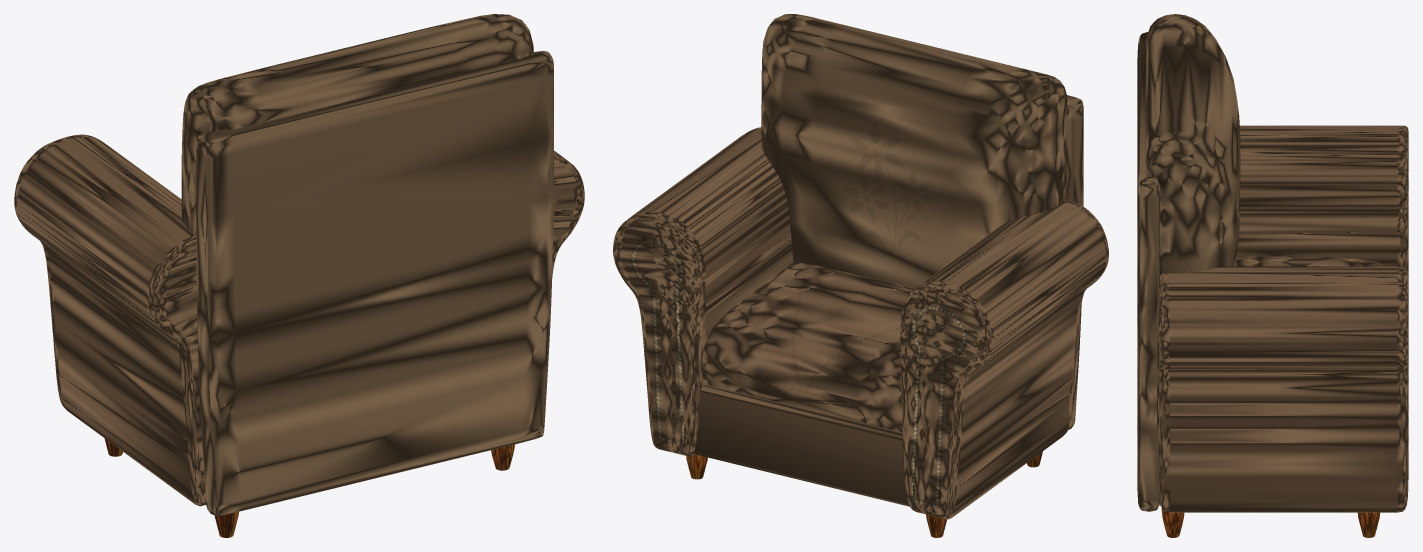
The model's file is sofa1.fbx.
3 views of the same model, side by side, from view 1: azimuth 30°, elevation 25°; view 2: azimuth 150°, elevation 25°; view 3: azimuth 270°, elevation 25° (orthographic). The views are drawn at different scales.
Parts seen in each view (by area): view 1: Sofa_Base_Mesh:sofa_3; view 2: Sofa_Base_Mesh:sofa_3; view 3: Sofa_Base_Mesh:sofa_3.
Boxes of the visible parts, x1=… form: Sofa_Base_Mesh:sofa_3: x1=14, y1=14, x2=584, y2=537; Sofa_Base_Mesh:sofa_3: x1=613, y1=14, x2=1108, y2=537; Sofa_Base_Mesh:sofa_3: x1=1137, y1=14, x2=1408, y2=537.
Bounding box in the file's own units: 0.9602 × 0.588 × 0.9458.
4 materials, 4 textured.
